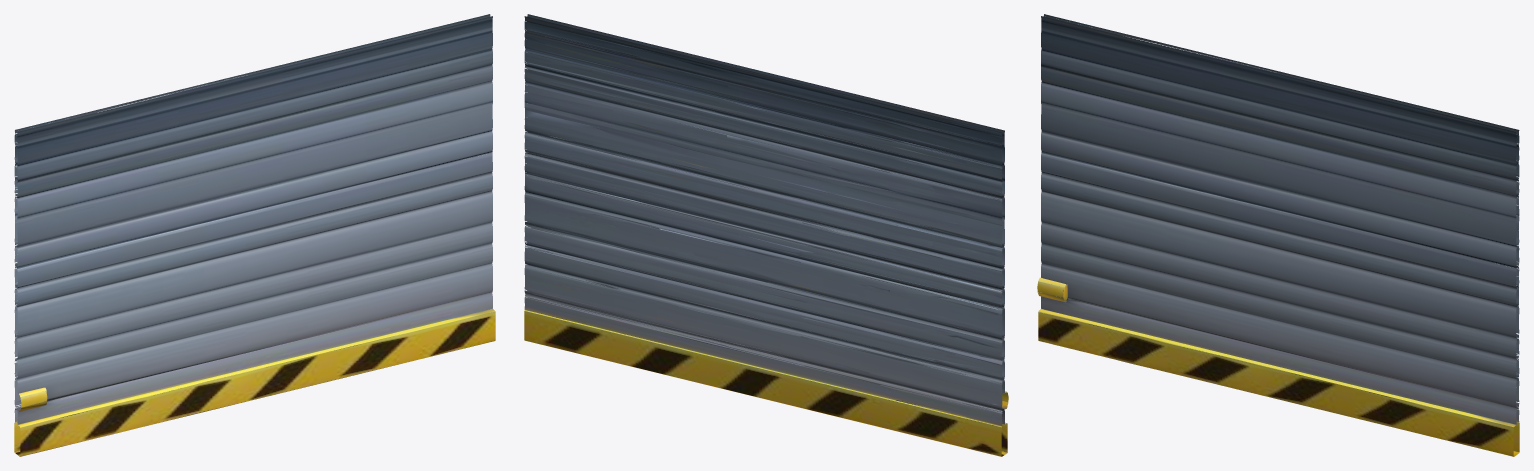
The model's file is roller_shutter.glb.
3 views of the same model, side by side, from view 1: azimuth 30°, elevation 25°; view 2: azimuth 150°, elevation 25°; view 3: azimuth 330°, elevation 25° (orthographic).
Visible parts, largest first — view 1: Industrial_roller_shutter; view 2: Industrial_roller_shutter; view 3: Industrial_roller_shutter.
Part boxes in pixels (box(x1,y1,x2,y2)): Industrial_roller_shutter: box(14, 14, 495, 456); Industrial_roller_shutter: box(524, 14, 1008, 456); Industrial_roller_shutter: box(1037, 14, 1519, 456).
Bounding box in the file's own units: 4 × 2.6 × 0.1029.
1 material, 1 textured.
